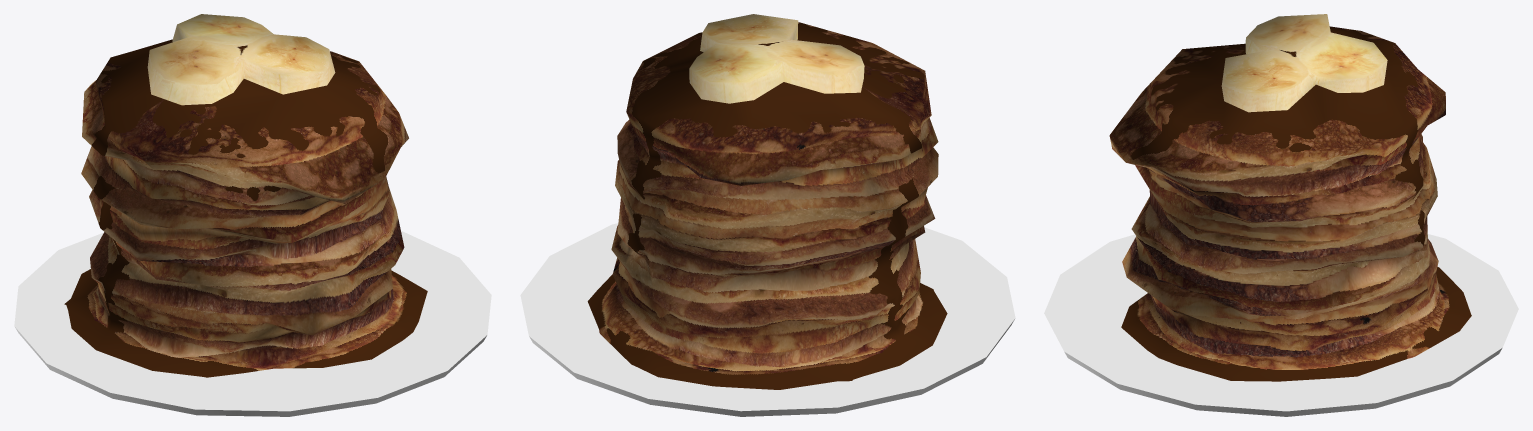
The model's file is pancake.fbx.
The picture shows the model from 3 angles, left to right: view 1: azimuth 30°, elevation 25°; view 2: azimuth 150°, elevation 25°; view 3: azimuth 270°, elevation 25°; orthographic projection. The views are drawn at different scales.
Parts seen in each view (by area): view 1: pancake, plate; view 2: pancake, plate; view 3: pancake, plate.
Boxes of the visible parts, left/top/right/bottom form: pancake: left=64, top=14, right=427, bottom=377; plate: left=14, top=231, right=491, bottom=416; pancake: left=587, top=14, right=947, bottom=389; plate: left=520, top=223, right=1015, bottom=416; pancake: left=1109, top=14, right=1471, bottom=381; plate: left=1044, top=234, right=1518, bottom=416.
Bounding box in the file's own units: 15.59 × 9.7 × 15.59.
